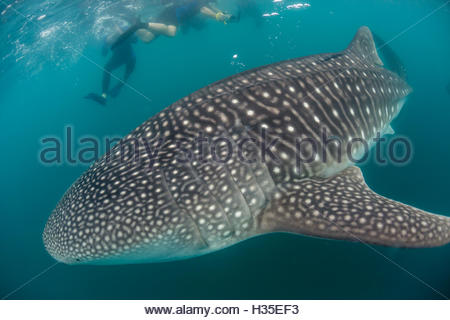Rhincodon_typusw: (17, 29, 449, 266)
